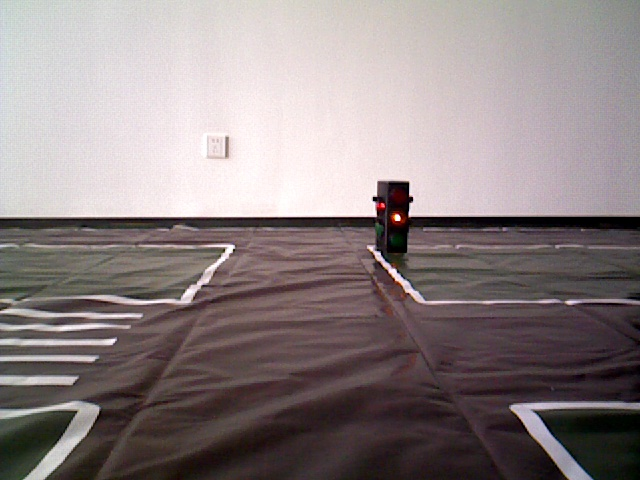yellow: (376, 180, 406, 250)
